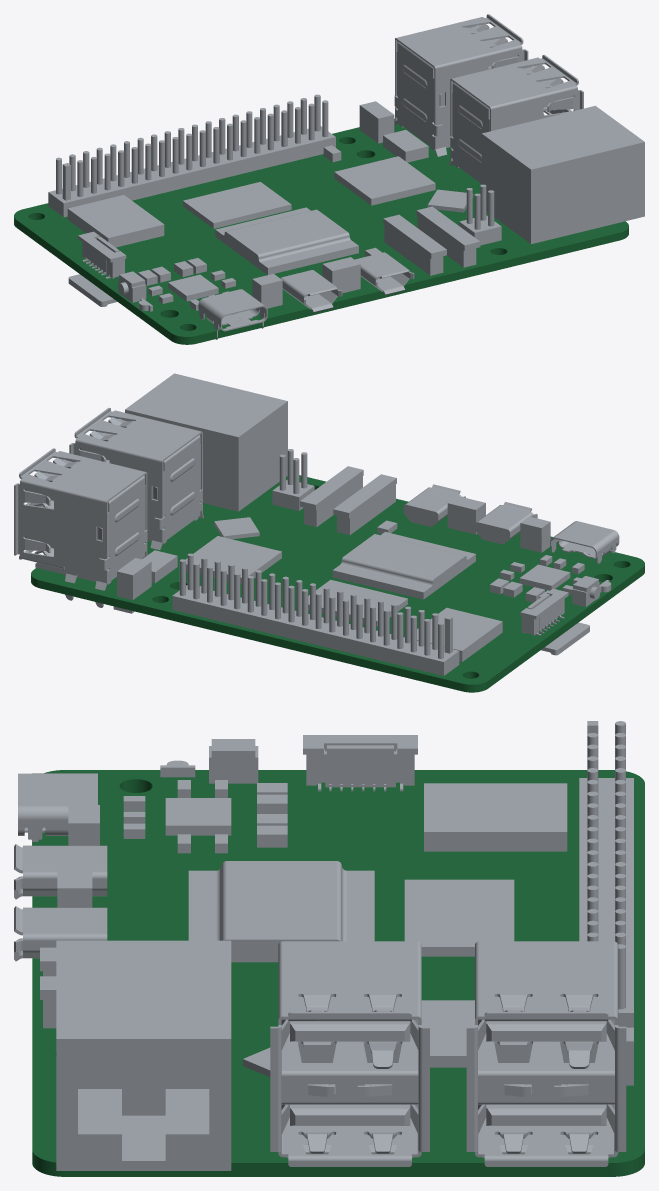
The model's file is raspberry_pi_5.glb.
3 renders of one model, top to bottom at view 1: azimuth 30°, elevation 25°; view 2: azimuth 150°, elevation 25°; view 3: azimuth 270°, elevation 25°, orthographic. The views are drawn at different scales.
Visible parts, largest first — view 1: components, pcb; view 2: components, pcb; view 3: components, pcb.
Part boxes in pixels (x1,y1,x2,y2): components: (48, 14, 644, 339); pcb: (14, 118, 628, 344); components: (14, 373, 619, 675); pcb: (31, 475, 644, 692); components: (14, 721, 633, 1170); pcb: (32, 770, 644, 1176).
Size of the model in its own units: 0.09 by 0.0198 by 0.0577.
